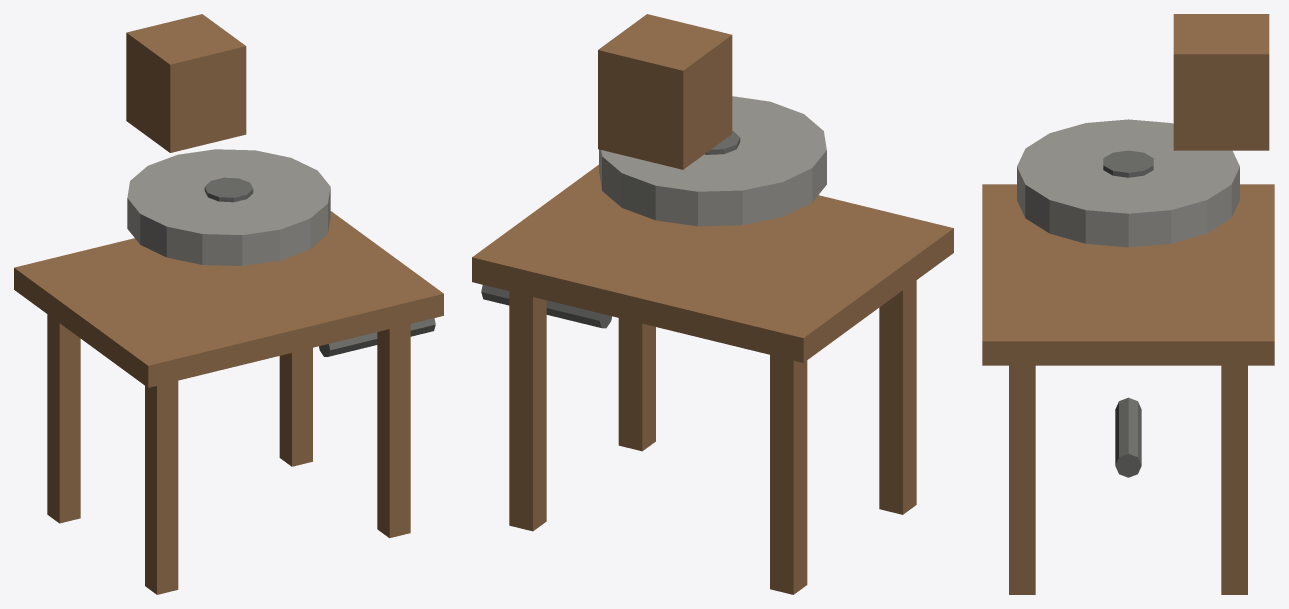
Rendered from vf_recipe_mill.glb.
3 renders of one model, left to right at view 1: azimuth 30°, elevation 25°; view 2: azimuth 150°, elevation 25°; view 3: azimuth 270°, elevation 25°, orthographic. The views are drawn at different scales.
Parts seen in each view (by area): view 1: Static_Oak, Millstone_Stone, Static_Iron, Millstone_Iron; view 2: Static_Oak, Millstone_Stone, Static_Iron; view 3: Static_Oak, Millstone_Stone, Static_Iron, Millstone_Iron.
Boxes of the visible parts, x1,y1,x2,y2 form: Static_Oak: (14,14,443,594); Millstone_Stone: (127,149,330,265); Static_Iron: (319,318,435,356); Millstone_Iron: (204,177,253,202); Static_Oak: (472,14,953,594); Millstone_Stone: (599,96,826,226); Static_Iron: (481,285,611,328); Static_Oak: (982,14,1274,594); Millstone_Stone: (1017,119,1239,247); Static_Iron: (1115,397,1141,477); Millstone_Iron: (1103,150,1153,177).
Size of the model in its own units: 1.65 by 2.05 by 1.1.
